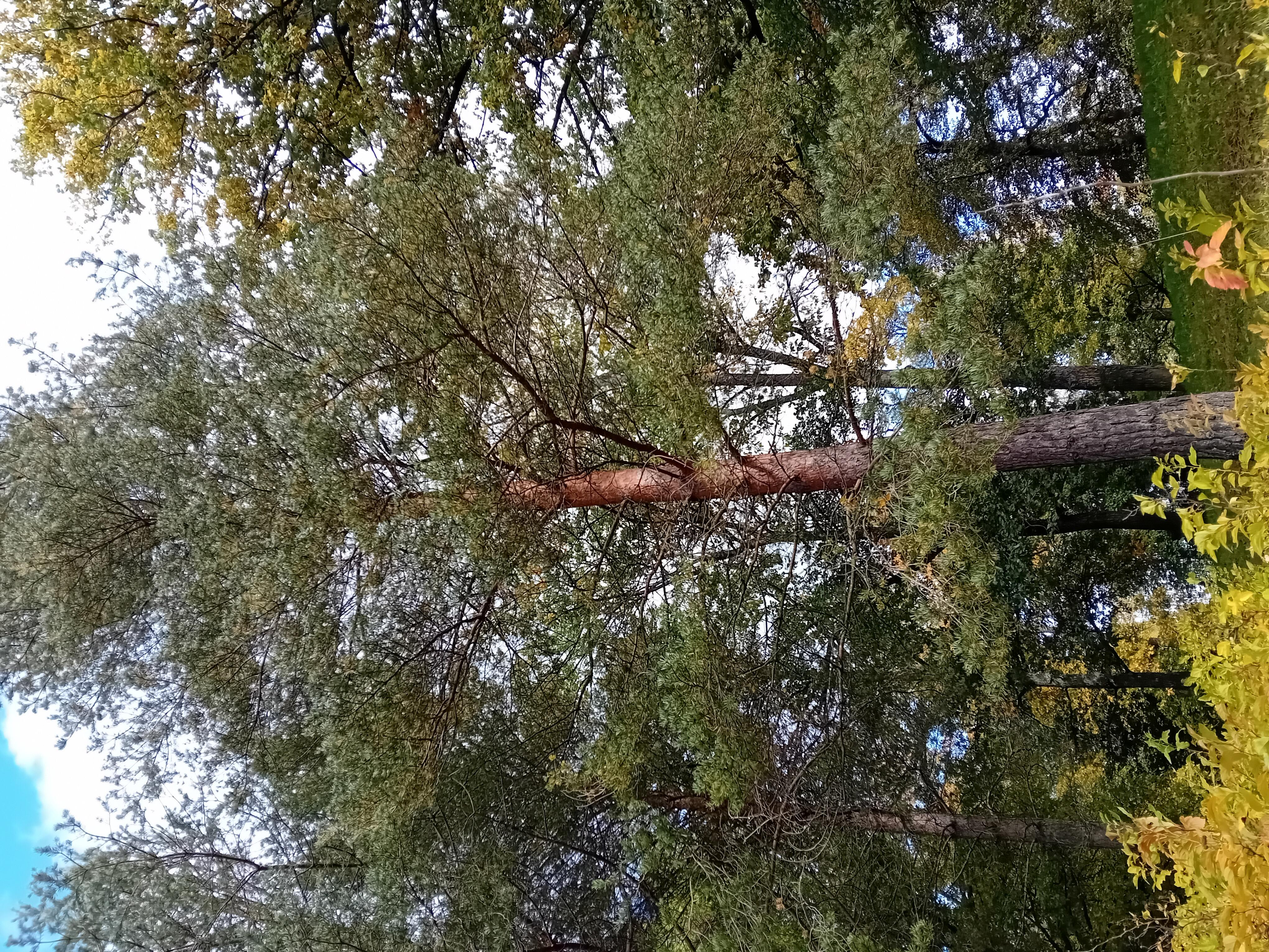Pine: (231, 0, 958, 882)
